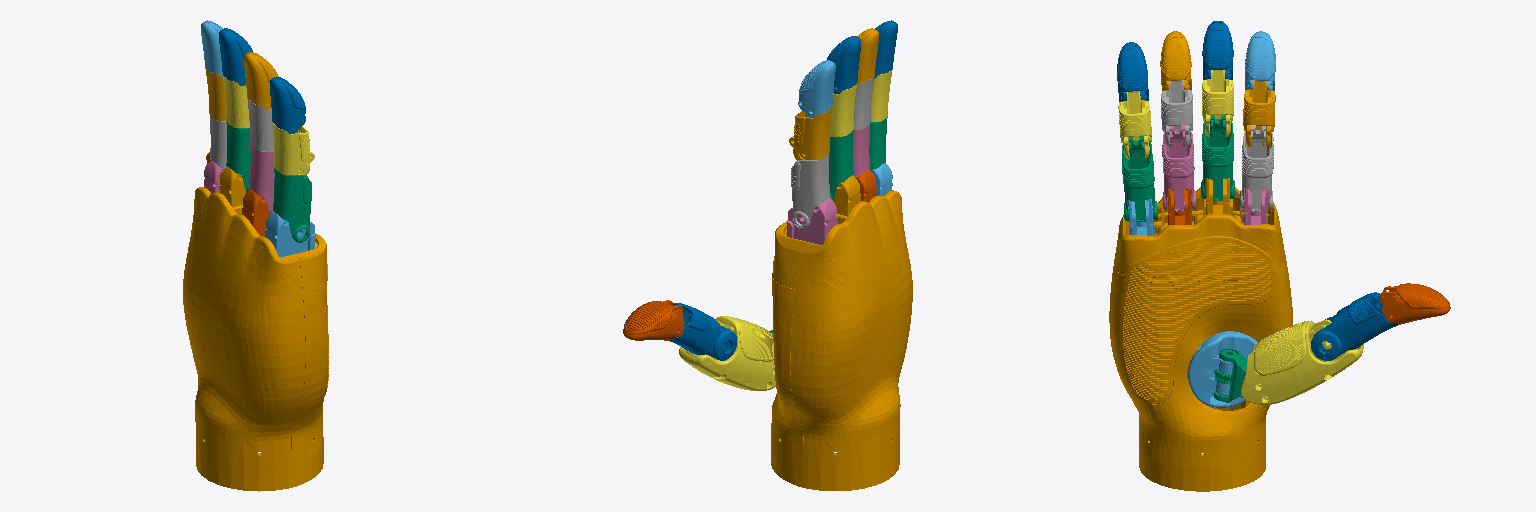
robot.urdf — hand:
<?xml version='1.0' encoding='utf-8'?>
<robot name="hand">
  <link name="rh_hand_base_link">
    <inertial>
      <origin xyz="-0.00378572993475002 -0.00041583904893102 0.083639288361369" rpy="0 0 0" />
      <mass value="0.108844276105116" />
      <inertia ixx="0.000193454839560416" ixy="-1.28842682703635e-06" ixz="-1.97005632027442e-07" iyy="0.000129793182936331" iyz="2.34961034039848e-06" izz="7.75126657491833e-05" />
    </inertial>
    <visual>
      <origin xyz="0 0 0" rpy="0 0 0" />
      <geometry><mesh filename="meshes/visual/rh_hand_base_link_vis.obj" /></geometry>
    </visual>
    <collision>
      <origin xyz="0 0 0" rpy="0 0 0" />
      <geometry><mesh filename="meshes/visual/rh_hand_base_link_vis.obj" /></geometry>
    </collision>
  </link>
  <link name="rh_thumb_metacarpals_base1">
    <inertial>
      <origin xyz="0.0284798868788809 -0.00318431295224701 1.02719477181115e-05" rpy="0 0 0" />
      <mass value="0.0084581547726202" />
      <inertia ixx="1.40243836130246e-06" ixy="-1.19619722062239e-07" ixz="7.34394052250468e-09" iyy="9.92829395244375e-07" iyz="4.64162077403213e-08" izz="7.26110349167423e-07" />
    </inertial>
    <visual>
      <origin xyz="0 0 0" rpy="0 0 0" />
      <geometry><mesh filename="meshes/visual/rh_thumb_metacarpals_base1_vis.obj" /></geometry>
    </visual>
    <collision>
      <origin xyz="0 0 0" rpy="0 0 0" />
      <geometry><mesh filename="meshes/visual/rh_thumb_metacarpals_base1_vis.obj" /></geometry>
    </collision>
  </link>
  <link name="rh_thumb_metacarpals_base2">
    <inertial>
      <origin xyz="0.00174090957798892 0.00721482590041489 -0.000263313052030728" rpy="0 0 0" />
      <mass value="0.00582711245702963" />
      <inertia ixx="3.17303010997568e-07" ixy="1.12913904502057e-08" ixz="-2.63903919763792e-09" iyy="2.73232268452871e-07" iyz="-1.09223121289568e-08" izz="1.76908306988949e-07" />
    </inertial>
    <visual>
      <origin xyz="0 0 0" rpy="0 0 0" />
      <geometry><mesh filename="meshes/visual/rh_thumb_metacarpals_base2_vis.obj" /></geometry>
    </visual>
    <collision>
      <origin xyz="0 0 0" rpy="0 0 0" />
      <geometry><mesh filename="meshes/visual/rh_thumb_metacarpals_base2_vis.obj" /></geometry>
    </collision>
  </link>
  <link name="rh_thumb_metacarpals">
    <inertial>
      <origin xyz="0.00183662400665177 -2.80439600631663e-06 0.0269904280709441" rpy="0 0 0" />
      <mass value="0.0152012256765109" />
      <inertia ixx="2.95371260447027e-06" ixy="-6.21178551021653e-11" ixz="-1.58082424321764e-07" iyy="3.8477229500142e-06" iyz="-4.14758708520733e-10" izz="1.32007940012866e-06" />
    </inertial>
    <visual>
      <origin xyz="0 0 0" rpy="0 0 0" />
      <geometry><mesh filename="meshes/visual/rh_thumb_metacarpals_vis.obj" /></geometry>
    </visual>
    <collision>
      <origin xyz="0 0 0" rpy="0 0 0" />
      <geometry><mesh filename="meshes/visual/rh_thumb_metacarpals_vis.obj" /></geometry>
    </collision>
  </link>
  <link name="rh_thumb_proximal">
    <inertial>
      <origin xyz="0.00159268252983606 -4.43643671124011e-06 0.015157363827759" rpy="0 0 0" />
      <mass value="0.00662231923284161" />
      <inertia ixx="1.01527279135723e-06" ixy="3.86298144933713e-12" ixz="-4.42245334725163e-08" iyy="9.10434608488902e-07" iyz="-2.76864906314695e-11" izz="4.47464440479559e-07" />
    </inertial>
    <visual>
      <origin xyz="0 0 0" rpy="0 0 0" />
      <geometry><mesh filename="meshes/visual/rh_thumb_proximal_vis.obj" /></geometry>
    </visual>
    <collision>
      <origin xyz="0 0 0" rpy="0 0 0" />
      <geometry><mesh filename="meshes/visual/rh_thumb_proximal_vis.obj" /></geometry>
    </collision>
  </link>
  <link name="rh_thumb_distal">
    <inertial>
      <origin xyz="-0.00138929852568181 1.78258724357894e-06 0.0115789166085123" rpy="0 0 0" />
      <mass value="0.00512919991432349" />
      <inertia ixx="3.30966764284813e-07" ixy="3.4874903065333e-10" ixz="-1.0473713688836e-07" iyy="3.23803379547457e-07" iyz="8.38797000457644e-11" izz="2.48897458436709e-07" />
    </inertial>
    <visual>
      <origin xyz="0 0 0" rpy="0 0 0" />
      <geometry><mesh filename="meshes/visual/rh_thumb_distal_vis.obj" /></geometry>
    </visual>
    <collision>
      <origin xyz="0 0 0" rpy="0 0 0" />
      <geometry><mesh filename="meshes/visual/rh_thumb_distal_vis.obj" /></geometry>
    </collision>
  </link>
  <link name="rh_index_metacarpals">
    <inertial>
      <origin xyz="-0.000394044300581899 -6.96524768268453e-07 0.00909446180986484" rpy="0 0 0" />
      <mass value="0.00903700329493157" />
      <inertia ixx="4.89554250283515e-07" ixy="-3.94697795521512e-11" ixz="2.73097237930781e-08" iyy="7.37380385682221e-07" iyz="-6.33508384593073e-11" izz="5.52862732336676e-07" />
    </inertial>
    <visual>
      <origin xyz="0 0 0" rpy="0 0 0" />
      <geometry><mesh filename="meshes/visual/rh_index_metacarpals_vis.obj" /></geometry>
    </visual>
    <collision>
      <origin xyz="0 0 0" rpy="0 0 0" />
      <geometry><mesh filename="meshes/visual/rh_index_metacarpals_vis.obj" /></geometry>
    </collision>
  </link>
  <link name="rh_index_proximal">
    <inertial>
      <origin xyz="-0.000129944380960653 1.17196171642124e-06 0.0104816955547003" rpy="0 0 0" />
      <mass value="0.00654982235507964" />
      <inertia ixx="4.43901400960209e-07" ixy="3.44400810155697e-12" ixz="-2.4814971446792e-08" iyy="4.58697731369085e-07" iyz="8.51406115918214e-11" izz="1.74205815221237e-07" />
    </inertial>
    <visual>
      <origin xyz="0 0 0" rpy="0 0 0" />
      <geometry><mesh filename="meshes/visual/rh_index_proximal_vis.obj" /></geometry>
    </visual>
    <collision>
      <origin xyz="0 0 0" rpy="0 0 0" />
      <geometry><mesh filename="meshes/visual/rh_index_proximal_vis.obj" /></geometry>
    </collision>
  </link>
  <link name="rh_index_middle">
    <inertial>
      <origin xyz="-0.00250308175256513 -2.09528008505294e-06 0.0110397399346051" rpy="0 0 0" />
      <mass value="0.00283043630937165" />
      <inertia ixx="2.61037002532157e-07" ixy="-5.76553826316728e-11" ixz="-4.00111847827091e-08" iyy="2.33077671005604e-07" iyz="2.97012055424732e-11" izz="1.2654386429984e-07" />
    </inertial>
    <visual>
      <origin xyz="0 0 0" rpy="0 0 0" />
      <geometry><mesh filename="meshes/visual/rh_index_middle_vis.obj" /></geometry>
    </visual>
    <collision>
      <origin xyz="0 0 0" rpy="0 0 0" />
      <geometry><mesh filename="meshes/visual/rh_index_middle_vis.obj" /></geometry>
    </collision>
  </link>
  <link name="rh_index_distal">
    <inertial>
      <origin xyz="-0.000604588906740394 5.26099433146611e-06 0.0121514585299274" rpy="0 0 0" />
      <mass value="0.0031446130611452" />
      <inertia ixx="1.64075846532352e-07" ixy="-1.75219464852339e-11" ixz="-4.27797730478817e-08" iyy="1.48367877966466e-07" iyz="2.03355501606508e-10" izz="9.78063887942514e-08" />
    </inertial>
    <visual>
      <origin xyz="0 0 0" rpy="0 0 0" />
      <geometry><mesh filename="meshes/visual/rh_index_distal_vis.obj" /></geometry>
    </visual>
    <collision>
      <origin xyz="0 0 0" rpy="0 0 0" />
      <geometry><mesh filename="meshes/visual/rh_index_distal_vis.obj" /></geometry>
    </collision>
  </link>
  <link name="rh_middle_proximal">
    <inertial>
      <origin xyz="-0.000226219980586554 1.17216483217029e-06 0.0104800581470382" rpy="0 0 0" />
      <mass value="0.00654982478226949" />
      <inertia ixx="4.43422823045882e-07" ixy="2.65801609334198e-12" ixz="-2.72879331079685e-08" iyy="4.58697754707373e-07" iyz="8.52654749038393e-11" izz="1.746844667607e-07" />
    </inertial>
    <visual>
      <origin xyz="0 0 0" rpy="0 0 0" />
      <geometry><mesh filename="meshes/visual/rh_middle_proximal_vis.obj" /></geometry>
    </visual>
    <collision>
      <origin xyz="0 0 0" rpy="0 0 0" />
      <geometry><mesh filename="meshes/visual/rh_middle_proximal_vis.obj" /></geometry>
    </collision>
  </link>
  <link name="rh_middle_middle">
    <inertial>
      <origin xyz="-0.00261699473119731 -2.09526685194996e-06 0.0110132928110042" rpy="0 0 0" />
      <mass value="0.00283043635504842" />
      <inertia ixx="2.60196021834948e-07" ixy="-5.79547865424222e-11" ixz="-4.13919583593881e-08" iyy="2.33077669434872e-07" iyz="2.9104841260857e-11" izz="1.27384845266404e-07" />
    </inertial>
    <visual>
      <origin xyz="0 0 0" rpy="0 0 0" />
      <geometry><mesh filename="meshes/visual/rh_middle_middle_vis.obj" /></geometry>
    </visual>
    <collision>
      <origin xyz="0 0 0" rpy="0 0 0" />
      <geometry><mesh filename="meshes/visual/rh_middle_middle_vis.obj" /></geometry>
    </collision>
  </link>
  <link name="rh_middle_distal">
    <inertial>
      <origin xyz="-0.000728492686371173 5.23463092580619e-06 0.0121446078355885" rpy="0 0 0" />
      <mass value="0.00314458659113992" />
      <inertia ixx="1.63194300204967e-07" ixy="-1.99064062210326e-11" ixz="-4.34469141576056e-08" iyy="1.48366133401819e-07" iyz="2.02741720954809e-10" izz="9.8685363448972e-08" />
    </inertial>
    <visual>
      <origin xyz="0 0 0" rpy="0 0 0" />
      <geometry><mesh filename="meshes/visual/rh_middle_distal_vis.obj" /></geometry>
    </visual>
    <collision>
      <origin xyz="0 0 0" rpy="0 0 0" />
      <geometry><mesh filename="meshes/visual/rh_middle_distal_vis.obj" /></geometry>
    </collision>
  </link>
  <link name="rh_ring_metacarpals">
    <inertial>
      <origin xyz="-0.000394044453752051 -6.96464269499264e-07 0.00909446164305169" rpy="0 0 0" />
      <mass value="0.00903700335356623" />
      <inertia ixx="4.89554245950771e-07" ixy="-3.94741777907138e-11" ixz="2.73097253166787e-08" iyy="7.37380377611045e-07" iyz="-6.33493307330511e-11" izz="5.52862742016819e-07" />
    </inertial>
    <visual>
      <origin xyz="0 0 0" rpy="0 0 0" />
      <geometry><mesh filename="meshes/visual/rh_ring_metacarpals_vis.obj" /></geometry>
    </visual>
    <collision>
      <origin xyz="0 0 0" rpy="0 0 0" />
      <geometry><mesh filename="meshes/visual/rh_ring_metacarpals_vis.obj" /></geometry>
    </collision>
  </link>
  <link name="rh_ring_proximal">
    <inertial>
      <origin xyz="-0.000129951741702268 1.17052693794986e-06 0.0104816759358435" rpy="0 0 0" />
      <mass value="0.00654983629670871" />
      <inertia ixx="4.43901586303392e-07" ixy="3.50295306689535e-12" ixz="-2.48148215954452e-08" iyy="4.58698142287549e-07" iyz="8.52333703161162e-11" izz="1.74206152792307e-07" />
    </inertial>
    <visual>
      <origin xyz="0 0 0" rpy="0 0 0" />
      <geometry><mesh filename="meshes/visual/rh_ring_proximal_vis.obj" /></geometry>
    </visual>
    <collision>
      <origin xyz="0 0 0" rpy="0 0 0" />
      <geometry><mesh filename="meshes/visual/rh_ring_proximal_vis.obj" /></geometry>
    </collision>
  </link>
  <link name="rh_ring_middle">
    <inertial>
      <origin xyz="-0.00250308200880736 -2.09549542964232e-06 0.0110397403443072" rpy="0 0 0" />
      <mass value="0.0028304363455826" />
      <inertia ixx="2.610370084214e-07" ixy="-5.76575489930258e-11" ixz="-4.00111860002357e-08" iyy="2.3307766580208e-07" iyz="2.97027542466601e-11" izz="1.26543852008426e-07" />
    </inertial>
    <visual>
      <origin xyz="0 0 0" rpy="0 0 0" />
      <geometry><mesh filename="meshes/visual/rh_ring_middle_vis.obj" /></geometry>
    </visual>
    <collision>
      <origin xyz="0 0 0" rpy="0 0 0" />
      <geometry><mesh filename="meshes/visual/rh_ring_middle_vis.obj" /></geometry>
    </collision>
  </link>
  <link name="rh_ring_distal">
    <inertial>
      <origin xyz="-0.00060459286126547 5.09148089232817e-06 0.0121514427640609" rpy="0 0 0" />
      <mass value="0.00314460631735109" />
      <inertia ixx="1.64075455538032e-07" ixy="-2.1468512857682e-11" ixz="-4.27798116117893e-08" iyy="1.48367698956355e-07" iyz="1.93419127705868e-10" izz="9.78062648939272e-08" />
    </inertial>
    <visual>
      <origin xyz="0 0 0" rpy="0 0 0" />
      <geometry><mesh filename="meshes/visual/rh_ring_distal_vis.obj" /></geometry>
    </visual>
    <collision>
      <origin xyz="0 0 0" rpy="0 0 0" />
      <geometry><mesh filename="meshes/visual/rh_ring_distal_vis.obj" /></geometry>
    </collision>
  </link>
  <link name="rh_pinky_metacarpals">
    <inertial>
      <origin xyz="-0.00039404522692532 -6.96240700731598e-07 0.00909446058676422" rpy="0 0 0" />
      <mass value="0.00903700307878998" />
      <inertia ixx="4.89554195779539e-07" ixy="-3.94817181132792e-11" ixz="2.7309708213456e-08" iyy="7.37380317460272e-07" iyz="-6.33317017267926e-11" izz="5.5286276236961e-07" />
    </inertial>
    <visual>
      <origin xyz="0 0 0" rpy="0 0 0" />
      <geometry><mesh filename="meshes/visual/rh_pinky_metacarpals_vis.obj" /></geometry>
    </visual>
    <collision>
      <origin xyz="0 0 0" rpy="0 0 0" />
      <geometry><mesh filename="meshes/visual/rh_pinky_metacarpals_vis.obj" /></geometry>
    </collision>
  </link>
  <link name="rh_pinky_proximal">
    <inertial>
      <origin xyz="-0.000129949532354408 1.17230680928004e-06 0.0104816807512055" rpy="0 0 0" />
      <mass value="0.00654983474179372" />
      <inertia ixx="4.43901730245286e-07" ixy="3.4507527836803e-12" ixz="-2.48149152090791e-08" iyy="4.58698159687316e-07" iyz="8.52432689792127e-11" izz="1.74206088330646e-07" />
    </inertial>
    <visual>
      <origin xyz="0 0 0" rpy="0 0 0" />
      <geometry><mesh filename="meshes/visual/rh_pinky_proximal_vis.obj" /></geometry>
    </visual>
    <collision>
      <origin xyz="0 0 0" rpy="0 0 0" />
      <geometry><mesh filename="meshes/visual/rh_pinky_proximal_vis.obj" /></geometry>
    </collision>
  </link>
  <link name="rh_pinky_middle">
    <inertial>
      <origin xyz="-0.00250308414609457 -2.09612030866585e-06 0.0110397422037874" rpy="0 0 0" />
      <mass value="0.00283043670305552" />
      <inertia ixx="2.6103697292473e-07" ixy="-5.76245409160896e-11" ixz="-4.00111424508735e-08" iyy="2.33077589871973e-07" iyz="2.96769001441938e-11" izz="1.26543829688383e-07" />
    </inertial>
    <visual>
      <origin xyz="0 0 0" rpy="0 0 0" />
      <geometry><mesh filename="meshes/visual/rh_pinky_middle_vis.obj" /></geometry>
    </visual>
    <collision>
      <origin xyz="0 0 0" rpy="0 0 0" />
      <geometry><mesh filename="meshes/visual/rh_pinky_middle_vis.obj" /></geometry>
    </collision>
  </link>
  <link name="rh_pinky_distal">
    <inertial>
      <origin xyz="-0.000604482988543969 5.27153358490656e-06 0.0121512430050648" rpy="0 0 0" />
      <mass value="0.00314457409502053" />
      <inertia ixx="1.64068754964363e-07" ixy="-1.90437996173564e-11" ixz="-4.27789862984836e-08" iyy="1.48361079085349e-07" iyz="2.05110113267167e-10" izz="9.78068531228973e-08" />
    </inertial>
    <visual>
      <origin xyz="0 0 0" rpy="0 0 0" />
      <geometry><mesh filename="meshes/visual/rh_pinky_distal_vis.obj" /></geometry>
    </visual>
    <collision>
      <origin xyz="0 0 0" rpy="0 0 0" />
      <geometry><mesh filename="meshes/visual/rh_pinky_distal_vis.obj" /></geometry>
    </collision>
  </link>
  <joint name="rh_thumb_cmc_roll" type="revolute">
    <origin xyz="-0.013419 0.012551 0.060602" rpy="0 0 0" />
    <parent link="rh_hand_base_link" />
    <child link="rh_thumb_metacarpals_base1" />
    <axis xyz="0.99996 0 -0.0087265" />
    <limit lower="0" upper="1.03" effort="4.8" velocity="1" />
  </joint>
  <joint name="rh_thumb_cmc_yaw" type="revolute">
    <origin xyz="0.035798 -0.0006691 0.00040146" rpy="-0.13233 -0.0085747 0.0011413" />
    <parent link="rh_thumb_metacarpals_base1" />
    <child link="rh_thumb_metacarpals_base2" />
    <axis xyz="0 0 -1" />
    <limit lower="0" upper="1.4" effort="4.8" velocity="1" />
  </joint>
  <joint name="rh_thumb_cmc_pitch" type="revolute">
    <origin xyz="0.0037151 0.015396 -0.0019302" rpy="0 -0.9163 -1.8076" />
    <parent link="rh_thumb_metacarpals_base2" />
    <child link="rh_thumb_metacarpals" />
    <axis xyz="0 1 0" />
    <limit lower="0" upper="0.52" effort="4.8" velocity="1" />
  </joint>
  <joint name="rh_thumb_mcp" type="revolute">
    <origin xyz="0.0061722 0 0.047968" rpy="0 0 0" />
    <parent link="rh_thumb_metacarpals" />
    <child link="rh_thumb_proximal" />
    <axis xyz="0 1 0" />
    <limit lower="0" upper="0.72" effort="3.7" velocity="1" />
    <mimic joint="rh_thumb_cmc_pitch" multiplier="1.38" offset="0" />
  </joint>
  <joint name="rh_thumb_ip" type="revolute">
    <origin xyz="-0.00017064 0 0.038665" rpy="0 0 0" />
    <parent link="rh_thumb_proximal" />
    <child link="rh_thumb_distal" />
    <axis xyz="0 1 0" />
    <limit lower="0" upper="0.78" effort="3.36" velocity="1" />
    <mimic joint="rh_thumb_cmc_pitch" multiplier="1.49" offset="0" />
  </joint>
  <joint name="rh_index_mcp_roll" type="revolute">
    <origin xyz="-0.0021643 0.026654 0.13253" rpy="-0.027925 -0.0087266 0" />
    <parent link="rh_hand_base_link" />
    <child link="rh_index_metacarpals" />
    <axis xyz="-1 0 0" />
    <limit lower="0" upper="0.19" effort="100" velocity="1" />
  </joint>
  <joint name="rh_index_mcp_pitch" type="revolute">
    <origin xyz="0.00220968332188026 0 0.0152749792820048" rpy="0 0 0" />
    <parent link="rh_index_metacarpals" />
    <child link="rh_index_proximal" />
    <axis xyz="0 1 0" />
    <limit lower="0" upper="1.36" effort="4.8" velocity="1" />
  </joint>
  <joint name="rh_index_pip" type="revolute">
    <origin xyz="-0.0010697 0 0.035634" rpy="0 0 0" />
    <parent link="rh_index_proximal" />
    <child link="rh_index_middle" />
    <axis xyz="0 1 0" />
    <limit lower="0" upper="1.78" effort="3.7" velocity="1" />
    <mimic joint="rh_index_mcp_pitch" multiplier="1.3" offset="0" />
  </joint>
  <joint name="rh_index_dip" type="revolute">
    <origin xyz="-0.0052444 0 0.025711" rpy="0 0 0" />
    <parent link="rh_index_middle" />
    <child link="rh_index_distal" />
    <axis xyz="0 1 0" />
    <limit lower="0" upper="0.62" effort="10.43" velocity="1" />
    <mimic joint="rh_index_mcp_pitch" multiplier="0.46" offset="0" />
  </joint>
  <joint name="rh_middle_mcp_pitch" type="revolute">
    <origin xyz="-0.00213155528434806 0.00765417737818821 0.152810108410232" rpy="0 0 0" />
    <parent link="rh_hand_base_link" />
    <child link="rh_middle_proximal" />
    <axis xyz="0 1 0" />
    <limit lower="0" upper="1.36" effort="100" velocity="1" />
  </joint>
  <joint name="rh_middle_pip" type="revolute">
    <origin xyz="-0.00139702428111229 0 0.0356230829860553" rpy="0 0 0" />
    <parent link="rh_middle_proximal" />
    <child link="rh_middle_middle" />
    <axis xyz="0 1 0" />
    <limit lower="0" upper="1.78" effort="3.7" velocity="1" />
    <mimic joint="rh_middle_mcp_pitch" multiplier="1.3" offset="0" />
  </joint>
  <joint name="rh_middle_dip" type="revolute">
    <origin xyz="-0.0055098 0 0.025656" rpy="0 0 0" />
    <parent link="rh_middle_middle" />
    <child link="rh_middle_distal" />
    <axis xyz="0 1 0" />
    <limit lower="0" upper="0.62" effort="10.43" velocity="1" />
    <mimic joint="rh_middle_mcp_pitch" multiplier="0.46" offset="0" />
  </joint>
  <joint name="rh_ring_mcp_roll" type="revolute">
    <origin xyz="-0.00216430029569533 -0.0113458226218121 0.132534071328313" rpy="0.0244346095279086 -0.00872664625996829 0" />
    <parent link="rh_hand_base_link" />
    <child link="rh_ring_metacarpals" />
    <axis xyz="1 0 0" />
    <limit lower="0" upper="0.2" effort="4.29" velocity="1" />
  </joint>
  <joint name="rh_ring_mcp_pitch" type="revolute">
    <origin xyz="0.0022097 0 0.015275" rpy="0 0 0" />
    <parent link="rh_ring_metacarpals" />
    <child link="rh_ring_proximal" />
    <axis xyz="0 1 0" />
    <limit lower="0" upper="1.36" effort="4.8" velocity="1" />
  </joint>
  <joint name="rh_ring_pip" type="revolute">
    <origin xyz="-0.00106974956301328 0 0.0356344124989653" rpy="0 0 0" />
    <parent link="rh_ring_proximal" />
    <child link="rh_ring_middle" />
    <axis xyz="0 1 0" />
    <limit lower="0" upper="1.78" effort="3.7" velocity="1" />
    <mimic joint="rh_ring_mcp_pitch" multiplier="1.34" offset="0" />
  </joint>
  <joint name="rh_ring_dip" type="revolute">
    <origin xyz="-0.00524443259686075 0 0.0257114125710868" rpy="0 0 -0.000213216385347256" />
    <parent link="rh_ring_middle" />
    <child link="rh_ring_distal" />
    <axis xyz="0.000213099161087669 0.999450193223668 -0.033155178387707" />
    <limit lower="0" upper="0.62" effort="10.43" velocity="1" />
    <mimic joint="rh_ring_mcp_pitch" multiplier="0.46" offset="0" />
  </joint>
  <joint name="rh_pinky_mcp_roll" type="revolute">
    <origin xyz="-0.00012074 -0.030346 0.12755" rpy="0.057596 -0.0087266 0" />
    <parent link="rh_hand_base_link" />
    <child link="rh_pinky_metacarpals" />
    <axis xyz="1 0 0" />
    <limit lower="0" upper="0.3" effort="4.29" velocity="1" />
  </joint>
  <joint name="rh_pinky_mcp_pitch" type="revolute">
    <origin xyz="0.0022097 0 0.015275" rpy="0 0 0" />
    <parent link="rh_pinky_metacarpals" />
    <child link="rh_pinky_proximal" />
    <axis xyz="0 1 0" />
    <limit lower="0" upper="1.36" effort="4.8" velocity="1" />
  </joint>
  <joint name="rh_pinky_pip" type="revolute">
    <origin xyz="-0.0010697 0 0.035634" rpy="0 0 0" />
    <parent link="rh_pinky_proximal" />
    <child link="rh_pinky_middle" />
    <axis xyz="0 1 0" />
    <limit lower="0" upper="1.78" effort="3.7" velocity="1" />
    <mimic joint="rh_pinky_mcp_pitch" multiplier="1.34" offset="0" />
  </joint>
  <joint name="rh_pinky_dip" type="revolute">
    <origin xyz="-0.0052444 0 0.025711" rpy="0 0 0" />
    <parent link="rh_pinky_middle" />
    <child link="rh_pinky_distal" />
    <axis xyz="0 1 0" />
    <limit lower="0" upper="0.62" effort="10.43" velocity="1" />
    <mimic joint="rh_pinky_mcp_pitch" multiplier="0.46" offset="0" />
  </joint>
</robot>

--- Render facts (derived) ---
Views: 3 orthographic renders of the robot side by side, from view 1: azimuth 30°, elevation 25°; view 2: azimuth 150°, elevation 25°; view 3: azimuth 270°, elevation 25°.
Model hand with 21 links and 20 joints (20 revolute), rooted at rh_hand_base_link, posed every joint at zero.
Visible links, largest first — view 1: rh_hand_base_link, rh_pinky_proximal, rh_pinky_middle, rh_pinky_distal, rh_ring_distal, rh_middle_distal, rh_pinky_metacarpals, rh_ring_proximal, rh_middle_proximal, rh_ring_middle, rh_middle_middle, rh_index_distal (+3 smaller); view 2: rh_hand_base_link, rh_thumb_metacarpals, rh_thumb_proximal, rh_index_proximal, rh_thumb_distal, rh_index_middle, rh_index_distal, rh_index_metacarpals, rh_middle_distal, rh_middle_proximal, rh_middle_middle, rh_pinky_distal (+5 smaller); view 3: rh_hand_base_link, rh_thumb_metacarpals, rh_thumb_proximal, rh_thumb_metacarpals_base1, rh_thumb_distal, rh_middle_proximal, rh_pinky_proximal, rh_index_proximal, rh_ring_proximal, rh_pinky_middle, rh_middle_middle, rh_ring_middle (+9 smaller).
Link boxes in pixels (box(x1,y1,x2,y2)): rh_hand_base_link: box(183, 167, 328, 491); rh_pinky_proximal: box(273, 168, 311, 242); rh_pinky_middle: box(272, 122, 314, 175); rh_pinky_distal: box(270, 77, 305, 133); rh_ring_distal: box(244, 52, 278, 109); rh_middle_distal: box(219, 28, 252, 85); rh_pinky_metacarpals: box(265, 211, 315, 256); rh_ring_proximal: box(250, 145, 274, 214); rh_middle_proximal: box(226, 122, 250, 191); rh_ring_middle: box(247, 98, 273, 151); rh_middle_middle: box(223, 76, 249, 127); rh_index_distal: box(201, 20, 222, 77); rh_hand_base_link: box(771, 175, 912, 490); rh_thumb_metacarpals: box(679, 316, 775, 390); rh_thumb_proximal: box(670, 303, 736, 360); rh_index_proximal: box(791, 154, 829, 228); rh_thumb_distal: box(623, 300, 684, 340); rh_index_middle: box(789, 108, 831, 160); rh_index_distal: box(798, 60, 835, 117); rh_index_metacarpals: box(787, 198, 837, 244); rh_middle_distal: box(827, 36, 860, 93); rh_middle_proximal: box(829, 130, 853, 200); rh_middle_middle: box(830, 84, 856, 136); rh_pinky_distal: box(874, 20, 897, 78); rh_hand_base_link: box(1109, 178, 1292, 491); rh_thumb_metacarpals: box(1241, 319, 1363, 404); rh_thumb_proximal: box(1311, 292, 1397, 360); rh_thumb_metacarpals_base1: box(1188, 331, 1257, 407); rh_thumb_distal: box(1379, 283, 1450, 324); rh_middle_proximal: box(1201, 115, 1234, 200); rh_pinky_proximal: box(1122, 136, 1157, 222); rh_index_proximal: box(1240, 125, 1273, 211); rh_ring_proximal: box(1162, 125, 1195, 211); rh_pinky_middle: box(1118, 91, 1151, 159); rh_middle_middle: box(1202, 70, 1233, 137); rh_ring_middle: box(1161, 80, 1192, 147).
Size in the robot's own frame: 0.0852 by 0.1718 by 0.2403 metres.
Meshes: 21 distinct files referenced, 21 mesh visuals loaded (21 OBJ).
